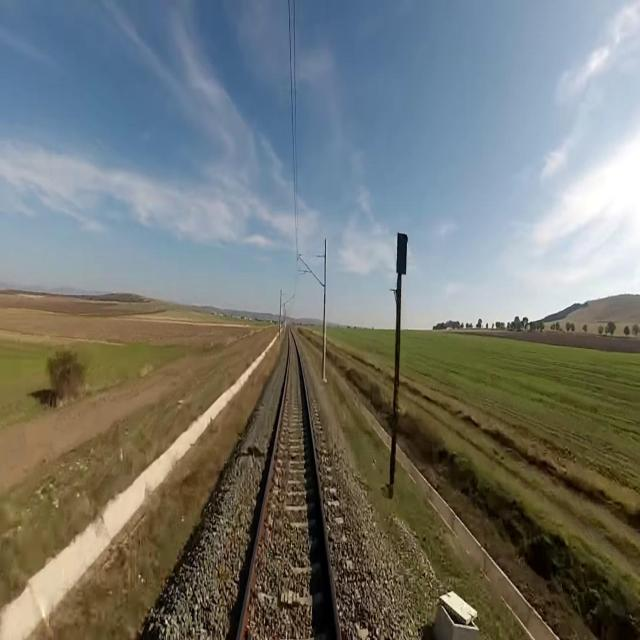rail-track: (240, 331, 334, 639)
